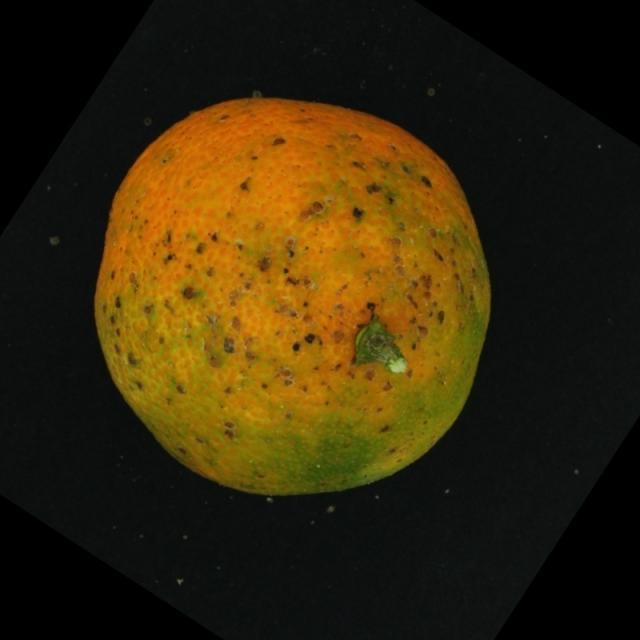grenning: (82, 90, 502, 516)
